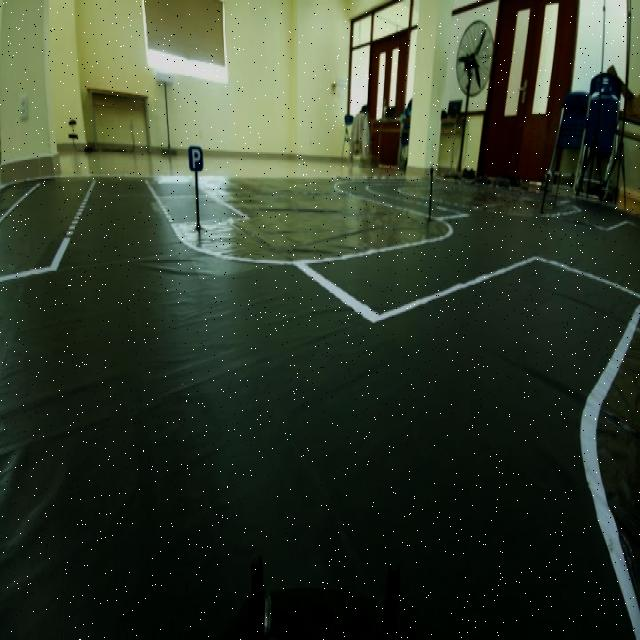parking: (183, 134, 209, 178)
